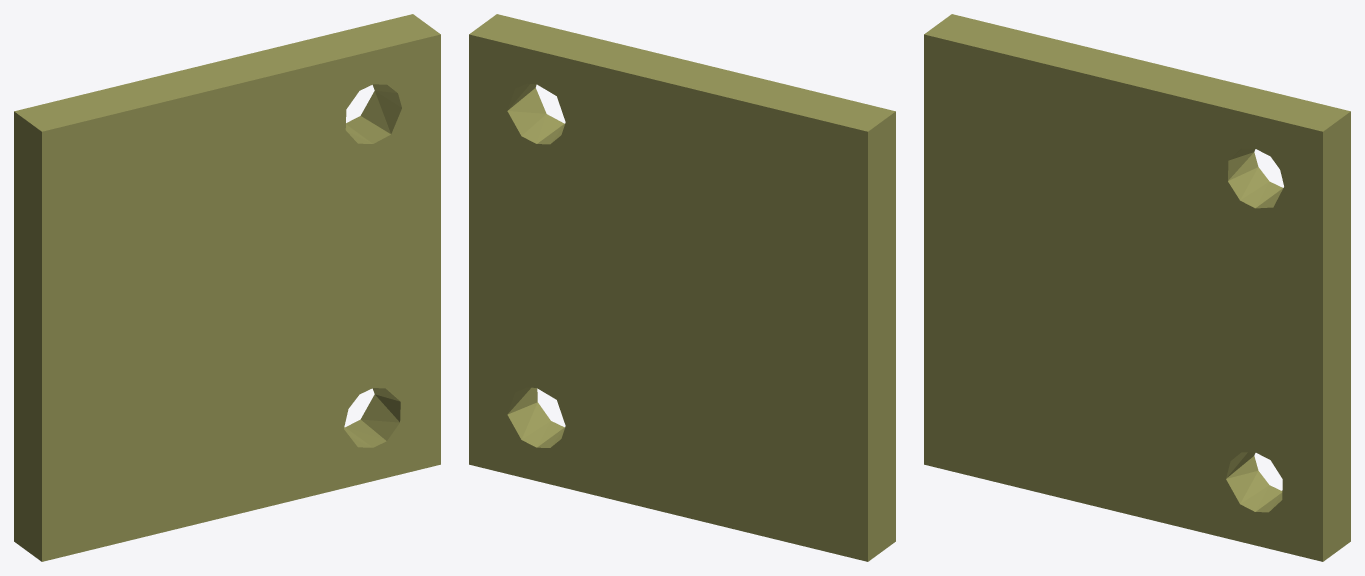
File: OBJ_INA226 CJMCU-226 BLUE.obj
3 renders of one model, left to right at view 1: azimuth 30°, elevation 25°; view 2: azimuth 150°, elevation 25°; view 3: azimuth 330°, elevation 25°, orthographic.
Bounding box in the file's own units: 82.5 × 85 × 10.
